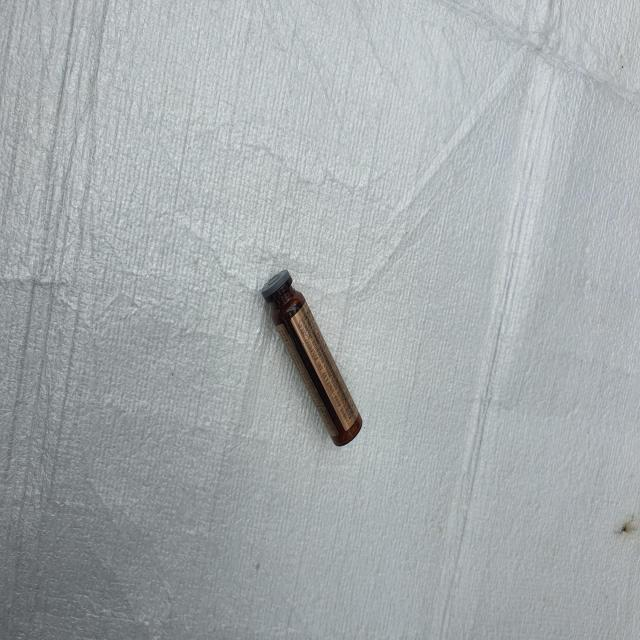glass: (261, 270, 363, 446)
